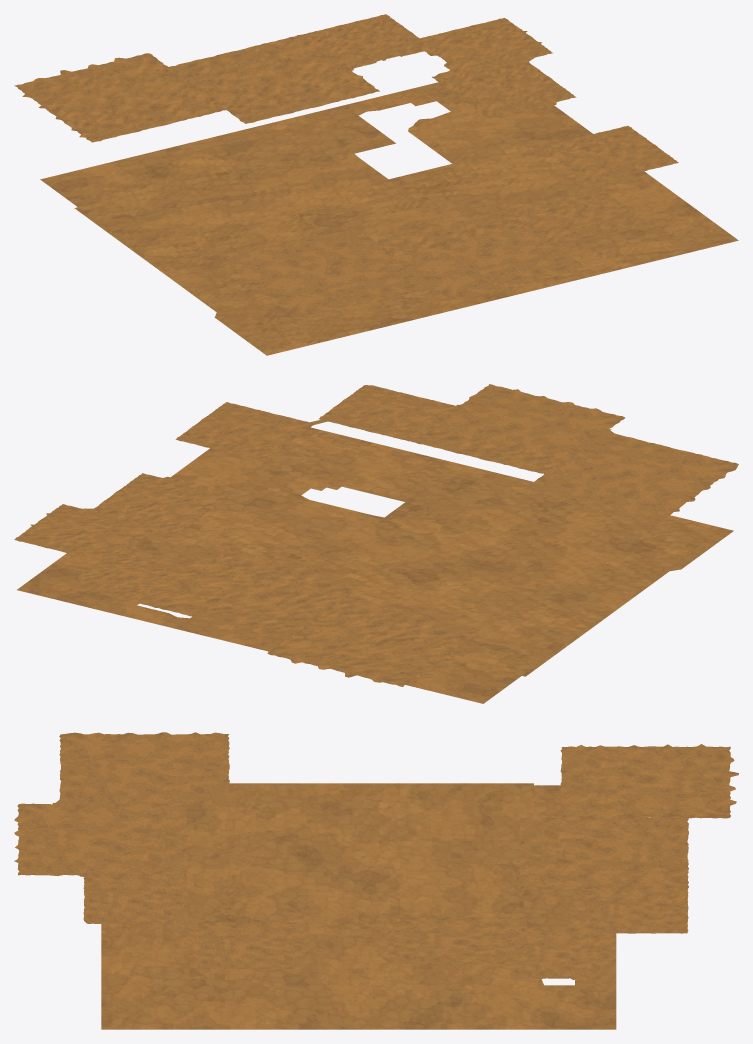
File: Floor_Ruin5.fbx
3 views of the same model, one above another, from view 1: azimuth 30°, elevation 25°; view 2: azimuth 150°, elevation 25°; view 3: azimuth 270°, elevation 25° (orthographic). The views are drawn at different scales.
Parts seen in each view (by area): view 1: Plane001; view 2: Plane001; view 3: Plane001.
Boxes of the visible parts, x1,y1,x2,y2 form: Plane001: [14, 14, 738, 355]; Plane001: [14, 384, 738, 703]; Plane001: [14, 732, 738, 1029].
Size of the model in its own units: 4895 by 475 by 5920.
